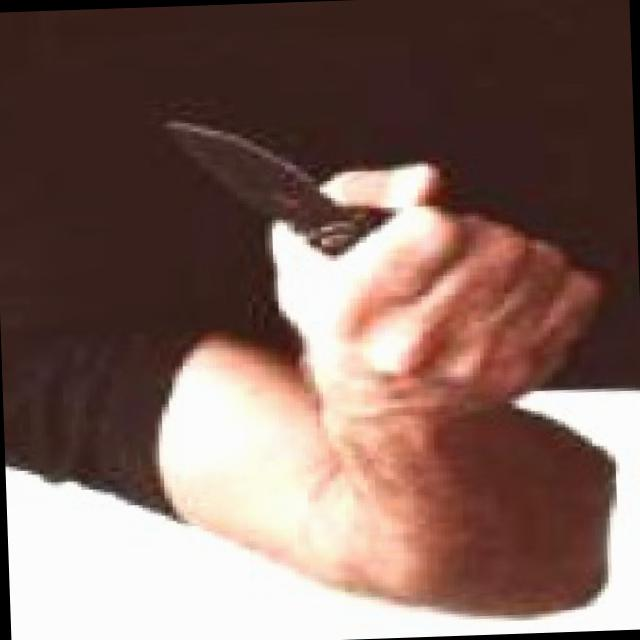knife: (136, 101, 516, 358)
